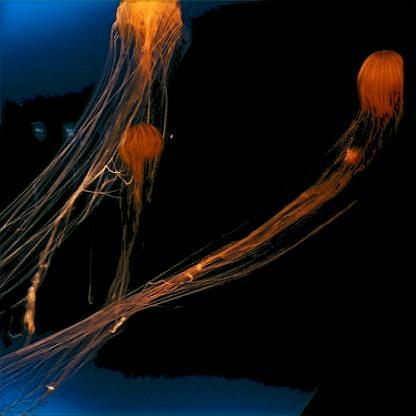Moon: (118, 1, 184, 119), (358, 52, 404, 162), (123, 127, 163, 221)
